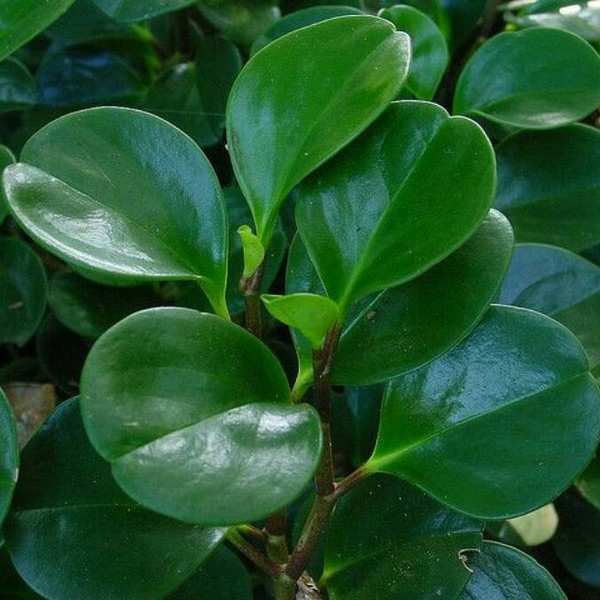obstacle: (21, 33, 567, 531)
